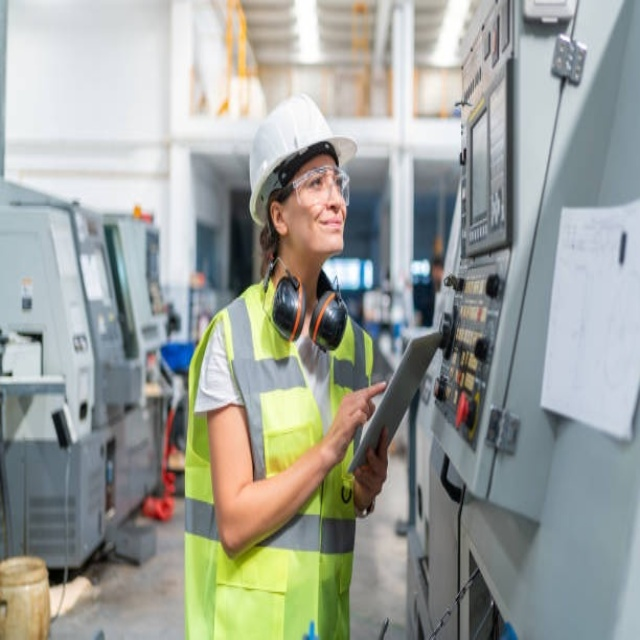Gafas: (282, 162, 352, 206)
Sin_guantes: (323, 376, 387, 463), (351, 424, 390, 512)
Sin_mascara: (310, 211, 347, 240)
